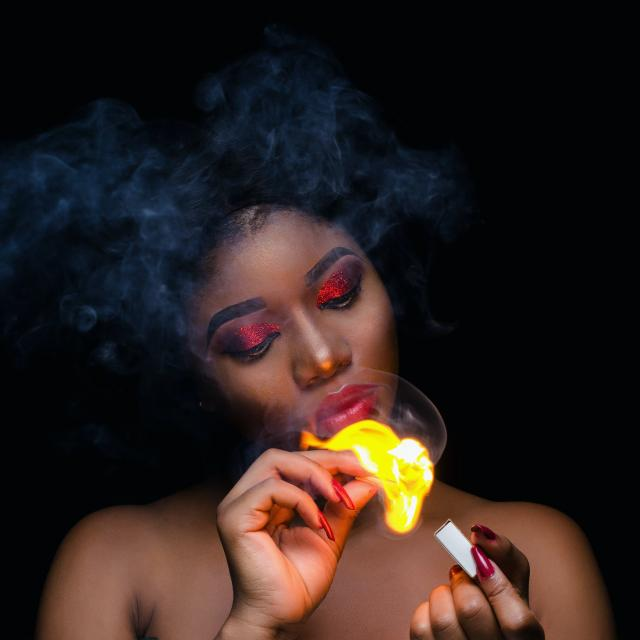fire: (303, 422, 471, 526)
